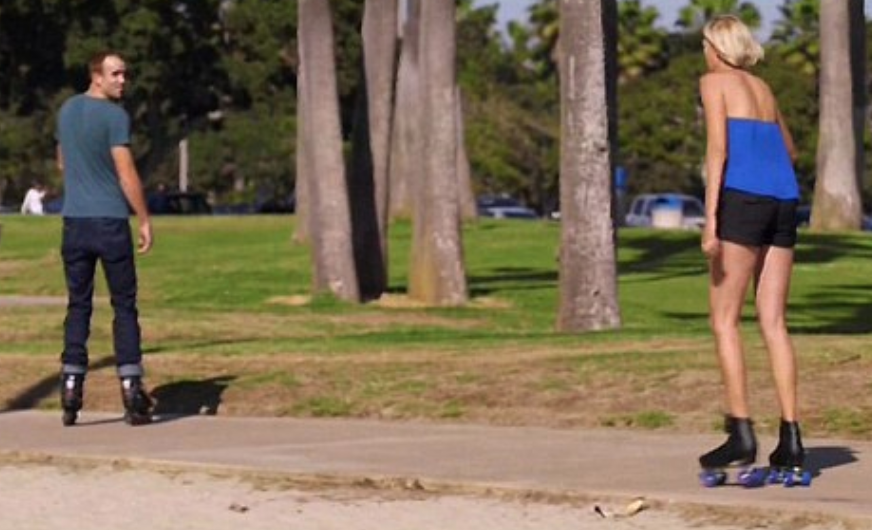Good: (54, 14, 810, 486)
